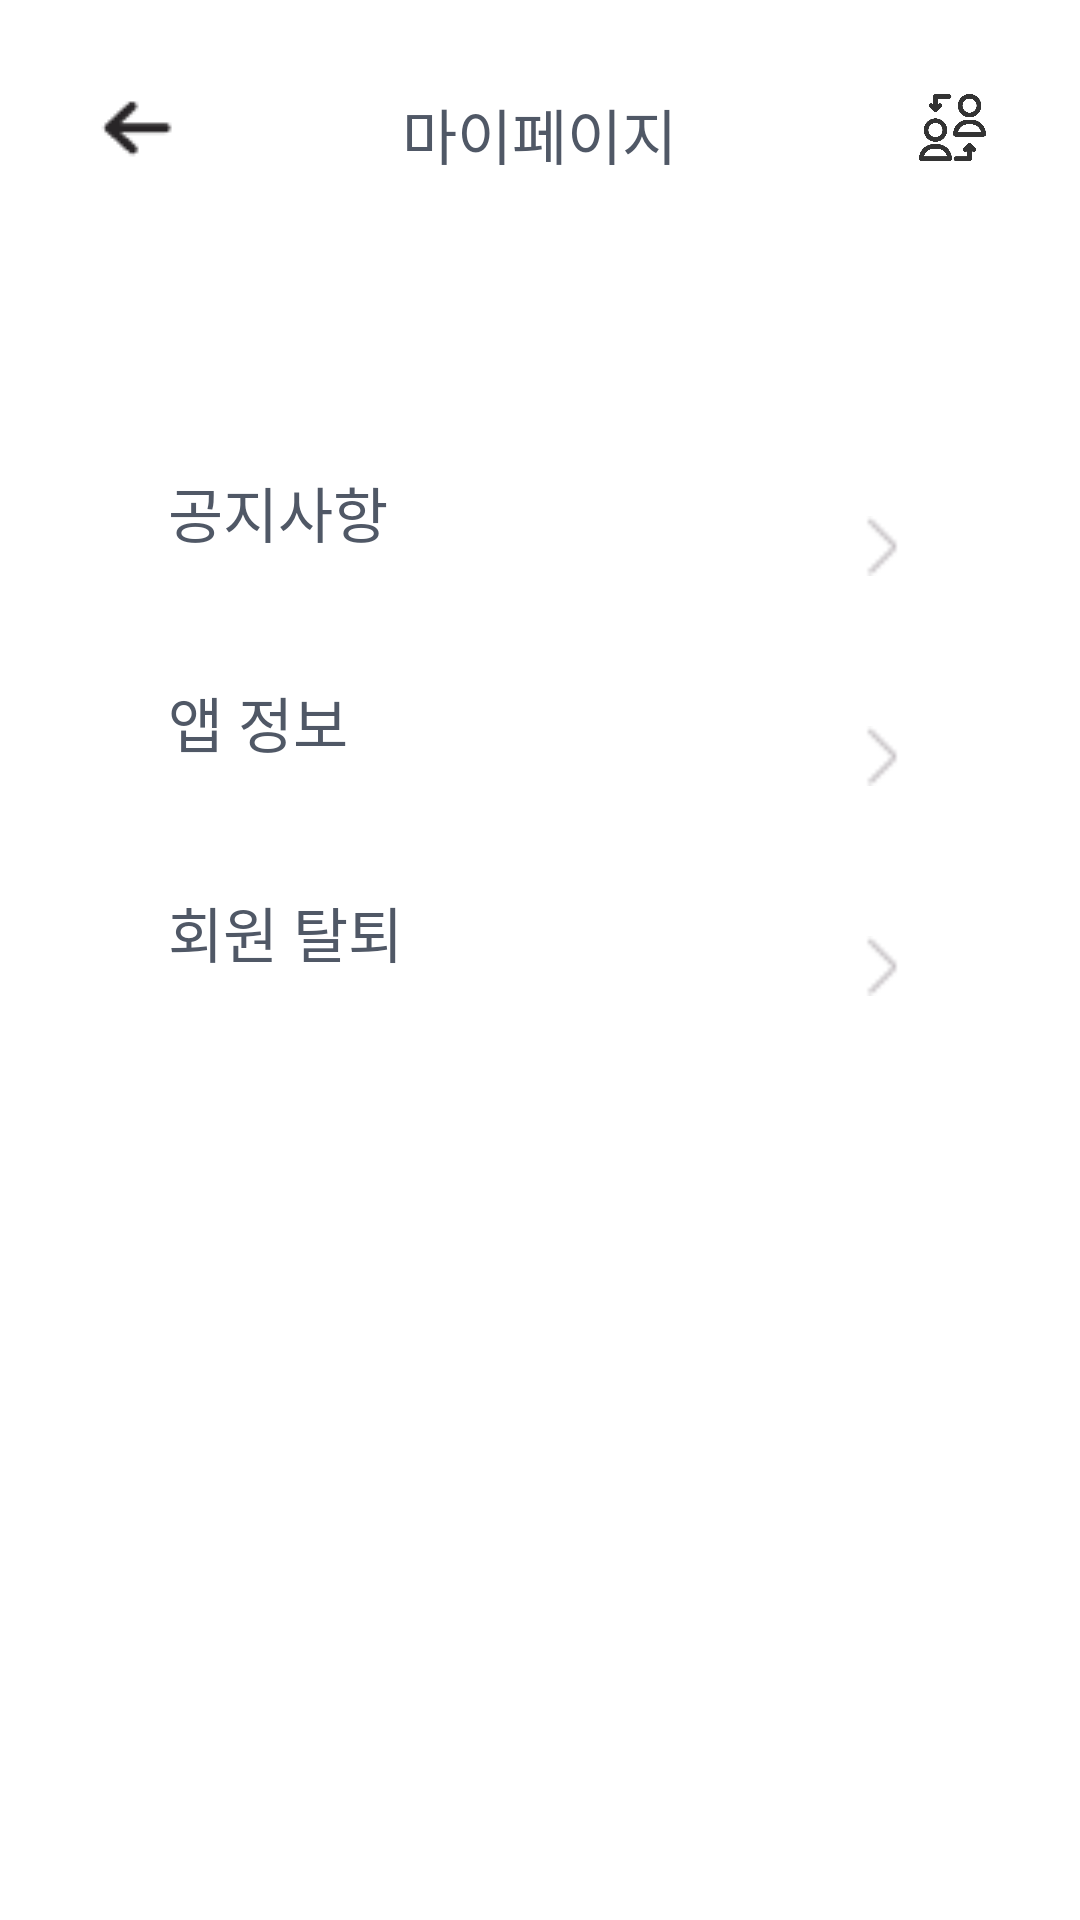

Where to tap for icons on this 1080px×1920px app screen, as (x=x, y=y):
back arrow: (x=137, y=128)
right bracket arrow: (x=882, y=546), (x=882, y=756), (x=882, y=966)
